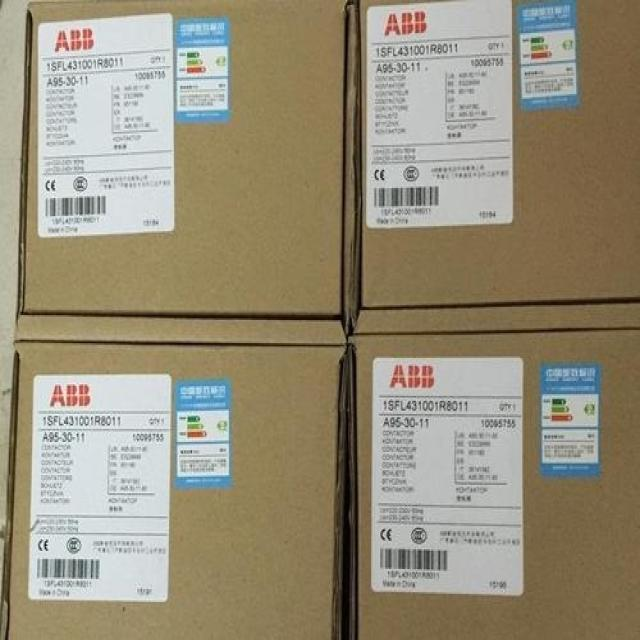box: (13, 0, 355, 346), (0, 343, 349, 640), (351, 0, 640, 333), (348, 330, 640, 640)
